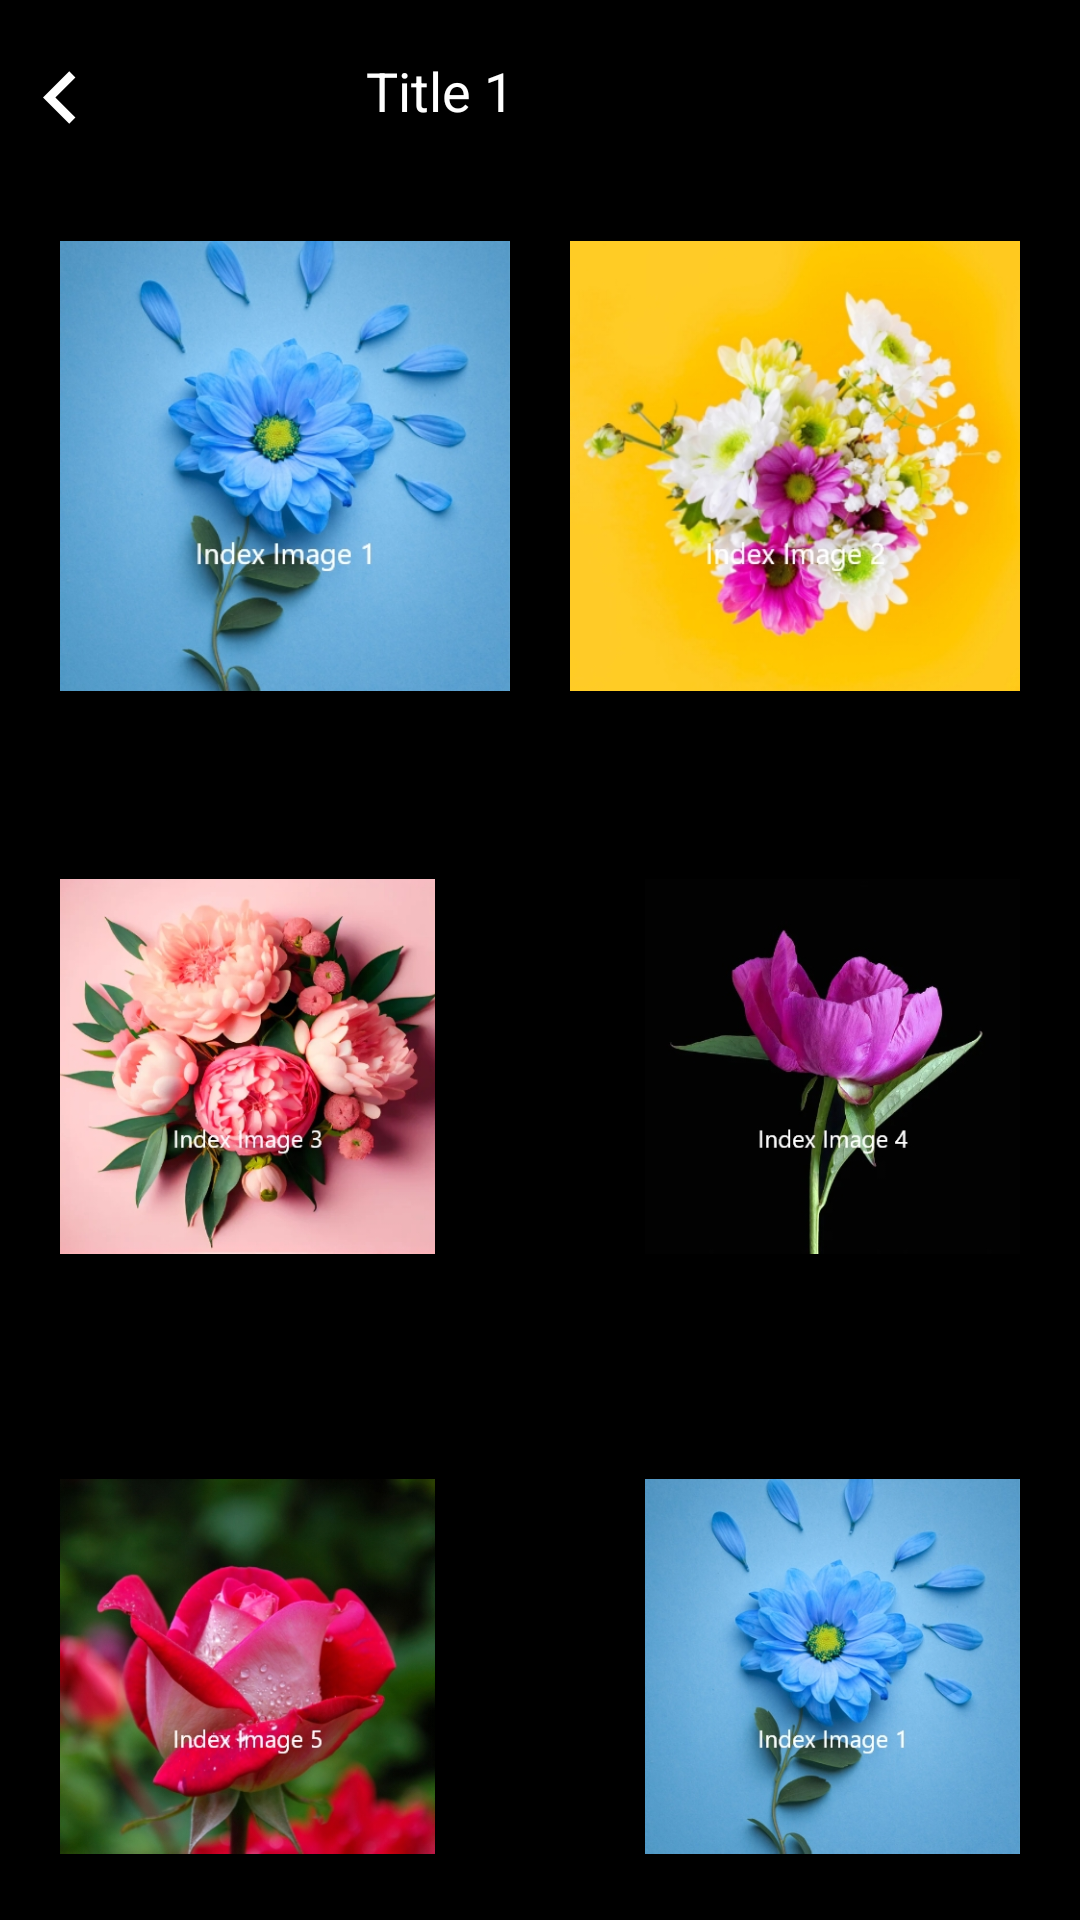

Icon click points for this 1080*1920 phone screenshot, format point (x, y):
keyboard arrow left: point (59, 97)
